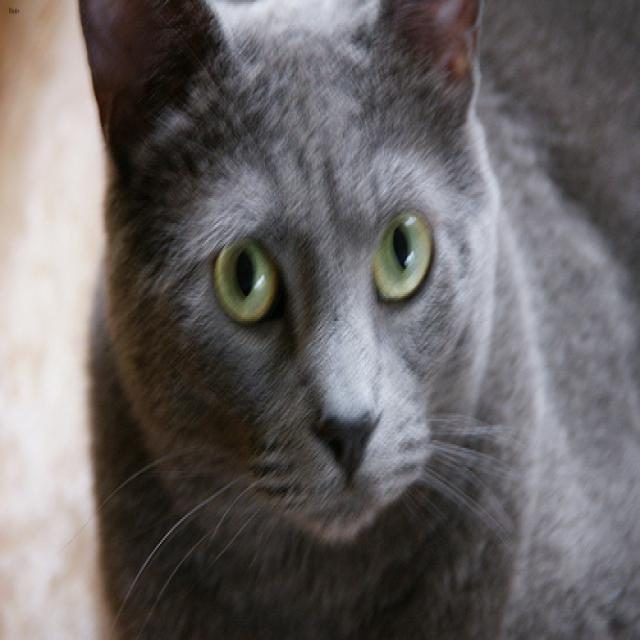Russian_Blue: (78, 0, 493, 538)
